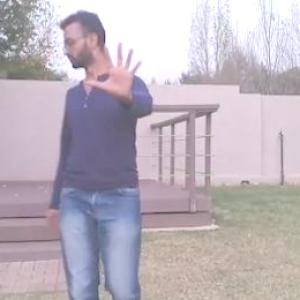follow_hand: (82, 33, 148, 100)
